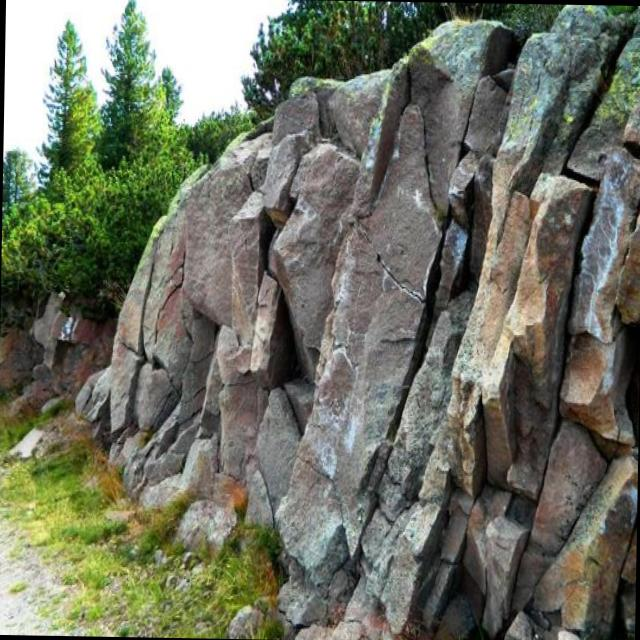cement: (0, 4, 640, 640)
grass: (0, 442, 278, 639)
